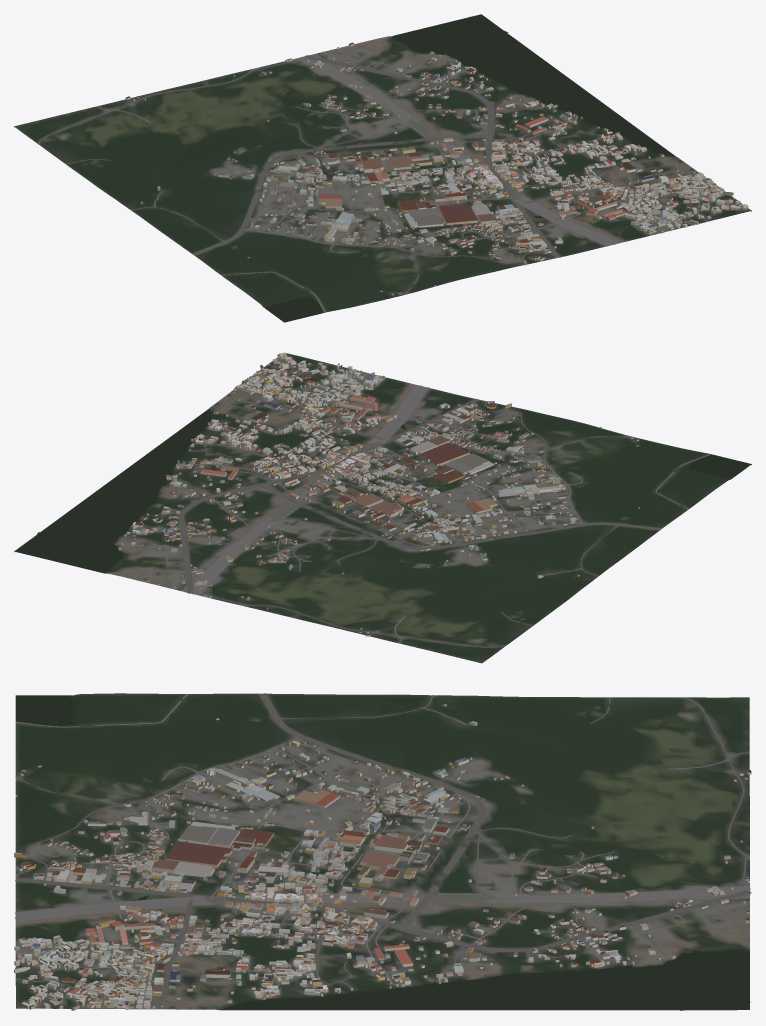
3 views of the same model, one above another, from view 1: azimuth 30°, elevation 25°; view 2: azimuth 150°, elevation 25°; view 3: azimuth 270°, elevation 25° (orthographic). The views are drawn at different scales.
Parts seen in each view (by area): view 1: ground, buildings, roads, water; view 2: ground, buildings, roads, water; view 3: ground, buildings, roads, water.
Boxes of the visible parts, x1,y1,x2,y2 form: ground: (14,15,751,322); buildings: (125,42,748,295); roads: (38,39,738,312); water: (265,14,675,322); ground: (14,352,751,663); buildings: (118,352,639,636); roads: (118,358,711,647); water: (15,409,750,572); ground: (15,693,749,1010); buildings: (14,703,751,1010); roads: (15,693,751,1009); water: (16,695,750,1010).
Bounding box in the file's own units: 1410 × 23.61 × 1408.
